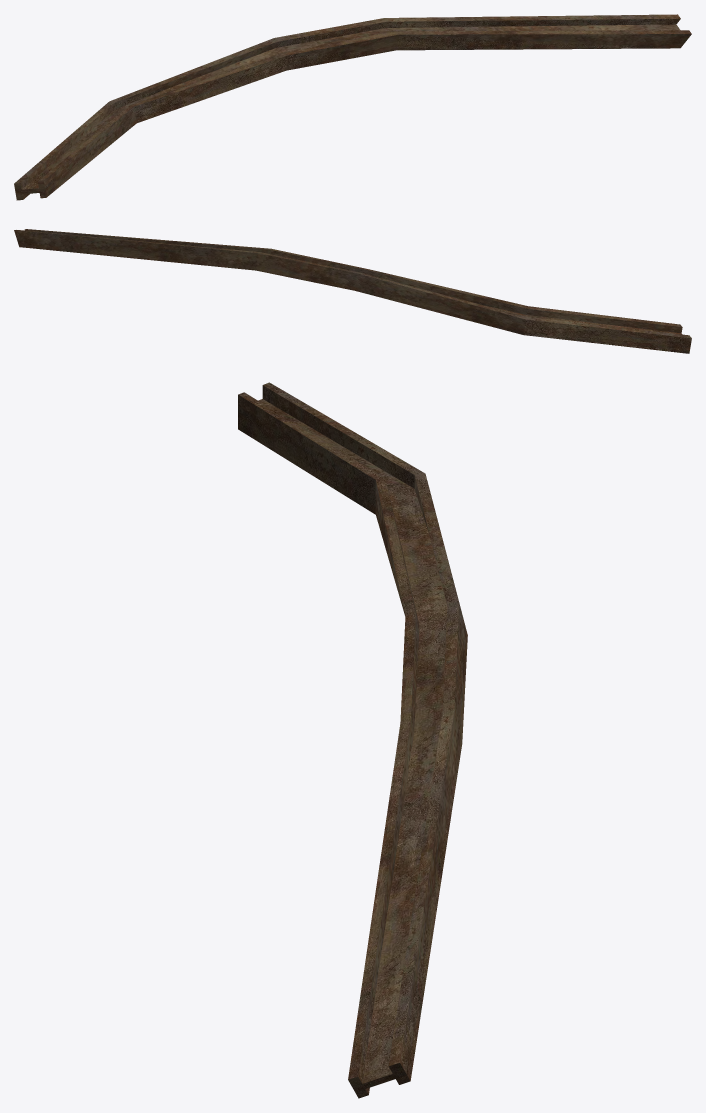
Rendered from beam01a.glb.
3 views of the same model, one above another, from view 1: azimuth 30°, elevation 25°; view 2: azimuth 150°, elevation 25°; view 3: azimuth 270°, elevation 25° (orthographic). The views are drawn at different scales.
Parts seen in each view (by area): view 1: 0_grainelevator01; view 2: 0_grainelevator01; view 3: 0_grainelevator01.
Boxes of the visible parts, left/top/right/bottom form: 0_grainelevator01: left=14, top=14, right=691, bottom=200; 0_grainelevator01: left=14, top=229, right=691, bottom=353; 0_grainelevator01: left=238, top=382, right=467, bottom=1098.
Bounding box in the file's own units: 8.69 × 0.9855 × 1.34.
1 material, 1 textured.
